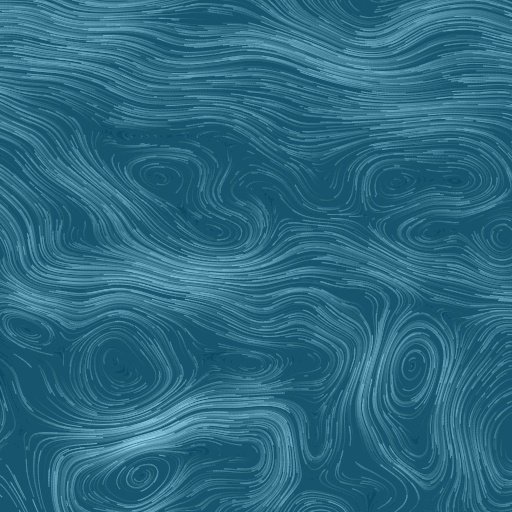eddy: (126, 151, 253, 251), (361, 153, 503, 215), (69, 328, 168, 413), (381, 327, 442, 424), (211, 350, 281, 386), (2, 310, 55, 350), (121, 458, 162, 494), (407, 218, 456, 247), (477, 220, 512, 258)
